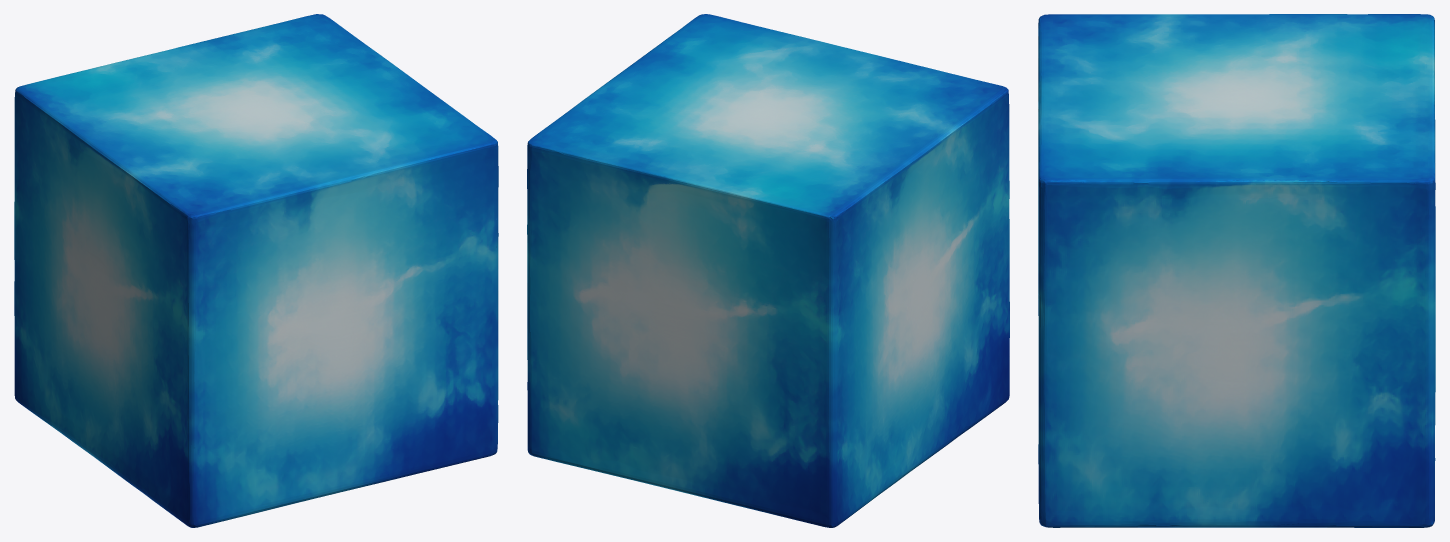
3 views of the same model, side by side, from view 1: azimuth 30°, elevation 25°; view 2: azimuth 150°, elevation 25°; view 3: azimuth 270°, elevation 25° (orthographic). The views are drawn at different scales.
Visible parts, largest first — view 1: world; view 2: world; view 3: world.
Part boxes in pixels (box(x1,y1,x2,y2)): world: box(14, 14, 498, 527); world: box(527, 14, 1009, 527); world: box(1038, 14, 1435, 527).
Bounding box in the file's own units: 0.493 × 0.4765 × 0.4908.
Materials: 1 (1 with a texture image).
